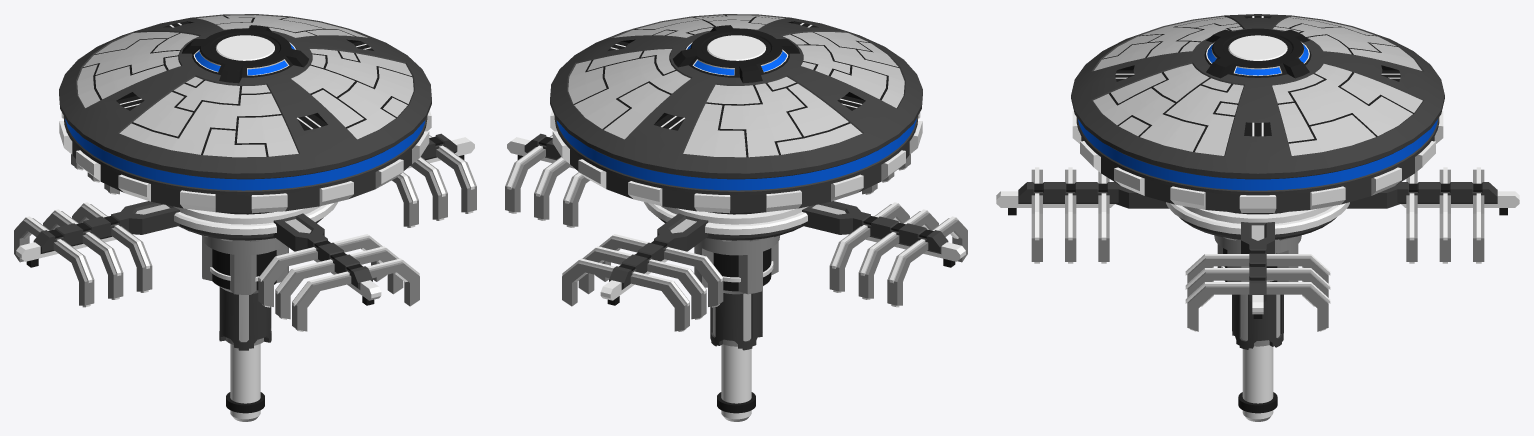
The picture shows the model from 3 angles, left to right: view 1: azimuth 30°, elevation 25°; view 2: azimuth 150°, elevation 25°; view 3: azimuth 270°, elevation 25°; orthographic projection.
Parts seen in each view (by area): view 1: Mesh_HD, Docking_HD, Ring_HD; view 2: Mesh_HD, Docking_HD, Ring_HD; view 3: Mesh_HD, Docking_HD, Ring_HD.
Part boxes in pixels (box(x1,y1,x2,y2)): Mesh_HD: box(59, 14, 431, 421); Docking_HD: box(14, 133, 476, 331); Ring_HD: box(63, 116, 427, 195); Mesh_HD: box(550, 14, 922, 421); Docking_HD: box(505, 133, 967, 331); Ring_HD: box(554, 116, 918, 195); Mesh_HD: box(1071, 14, 1444, 421); Docking_HD: box(996, 167, 1519, 331); Ring_HD: box(1076, 117, 1439, 195).
Bounding box in the file's own units: 24 × 18.7 × 24.
